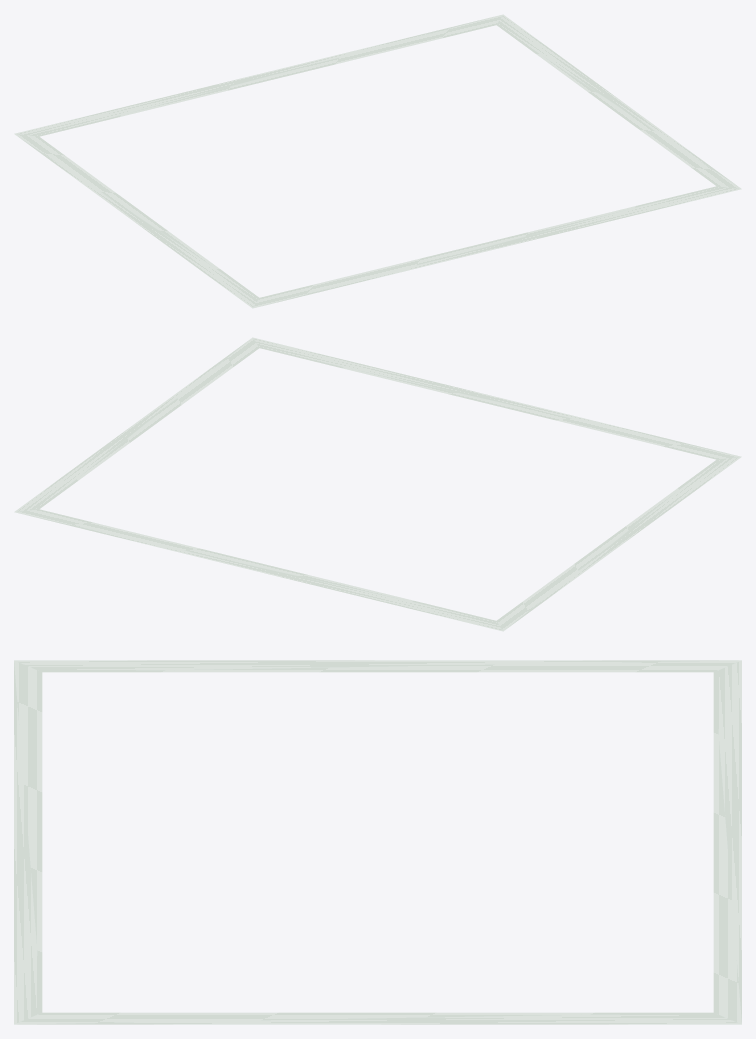
File: island-foam.glb
3 views of the same model, one above another, from view 1: azimuth 30°, elevation 25°; view 2: azimuth 150°, elevation 25°; view 3: azimuth 270°, elevation 25° (orthographic). The views are drawn at different scales.
Parts seen in each view (by area): view 1: island; view 2: island; view 3: island.
Part boxes in pixels (x1,y1,x2,y2): island: [14, 14, 741, 308]; island: [14, 337, 741, 631]; island: [14, 660, 741, 1024].
Bounding box in the file's own units: 25.8 × 0 × 21.8.
Materials: 1 (1 with a texture image).
